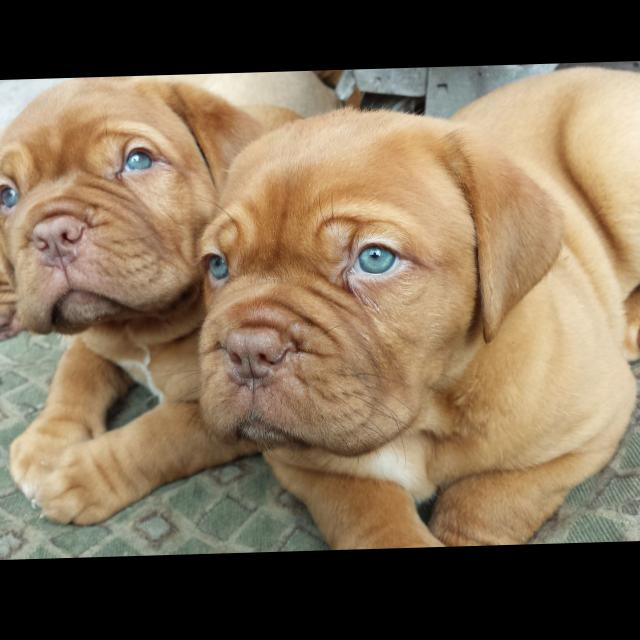dogue_de_bordeaux: (206, 72, 640, 557), (2, 73, 355, 529)
